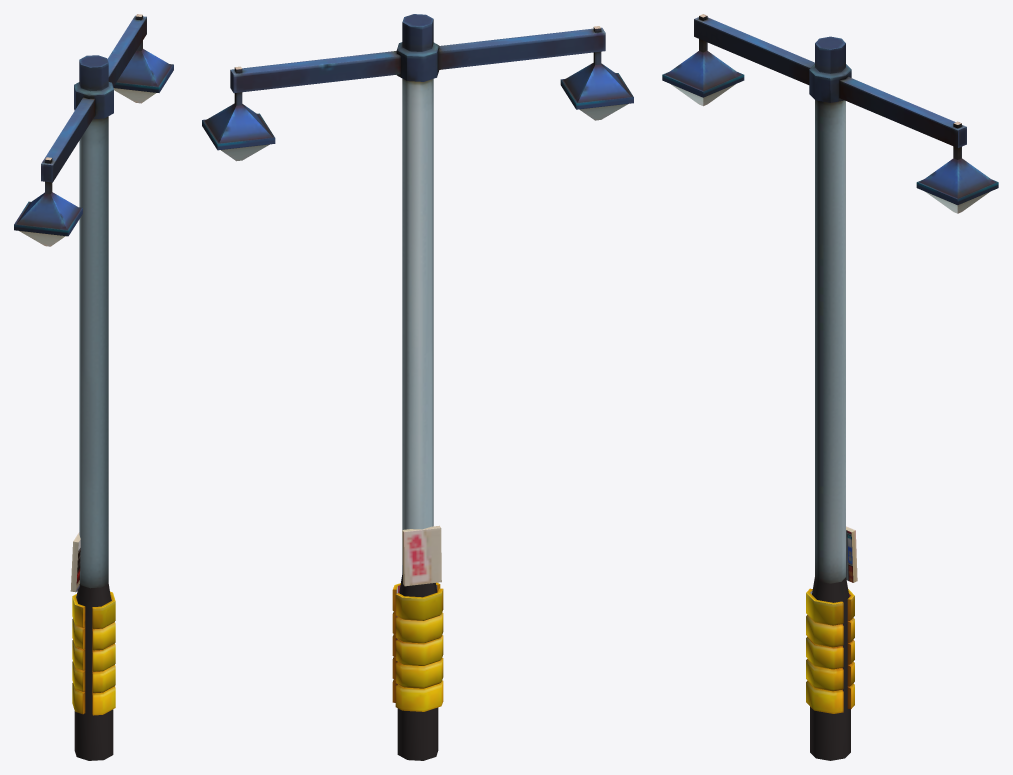
Rendered from sb_city_01_prop_47.fbx.
3 renders of one model, left to right at view 1: azimuth 30°, elevation 25°; view 2: azimuth 150°, elevation 25°; view 3: azimuth 270°, elevation 25°, orthographic. The views are drawn at different scales.
Parts seen in each view (by area): view 1: sb_city_01_prop_47; view 2: sb_city_01_prop_47; view 3: sb_city_01_prop_47.
Part boxes in pixels (x1,y1,x2,y2): sb_city_01_prop_47: [14, 14, 173, 760]; sb_city_01_prop_47: [202, 14, 633, 760]; sb_city_01_prop_47: [662, 14, 998, 760].
Size of the model in its own units: 1.41 by 3.27 by 1.41.
1 material, 1 textured.
